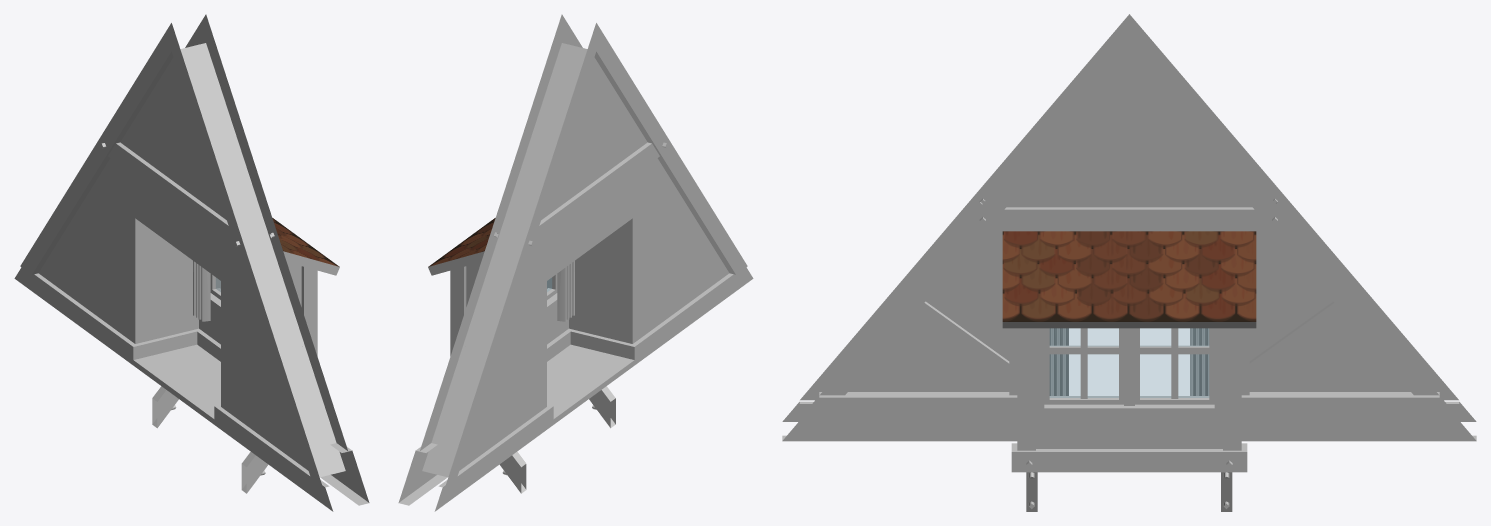
The model's file is Wall_Ext_Top_End_02_B.FBX.
3 renders of one model, left to right at view 1: azimuth 30°, elevation 25°; view 2: azimuth 150°, elevation 25°; view 3: azimuth 270°, elevation 25°, orthographic. The views are drawn at different scales.
Visible parts, largest first — view 1: Wall_Ext_Top_End_02_B; view 2: Wall_Ext_Top_End_02_B; view 3: Wall_Ext_Top_End_02_B.
Part boxes in pixels (x1,y1,x2,y2): Wall_Ext_Top_End_02_B: (14, 14, 369, 511); Wall_Ext_Top_End_02_B: (398, 14, 753, 511); Wall_Ext_Top_End_02_B: (782, 14, 1476, 511).
Bounding box in the file's own units: 2.67 × 9.98 × 13.
